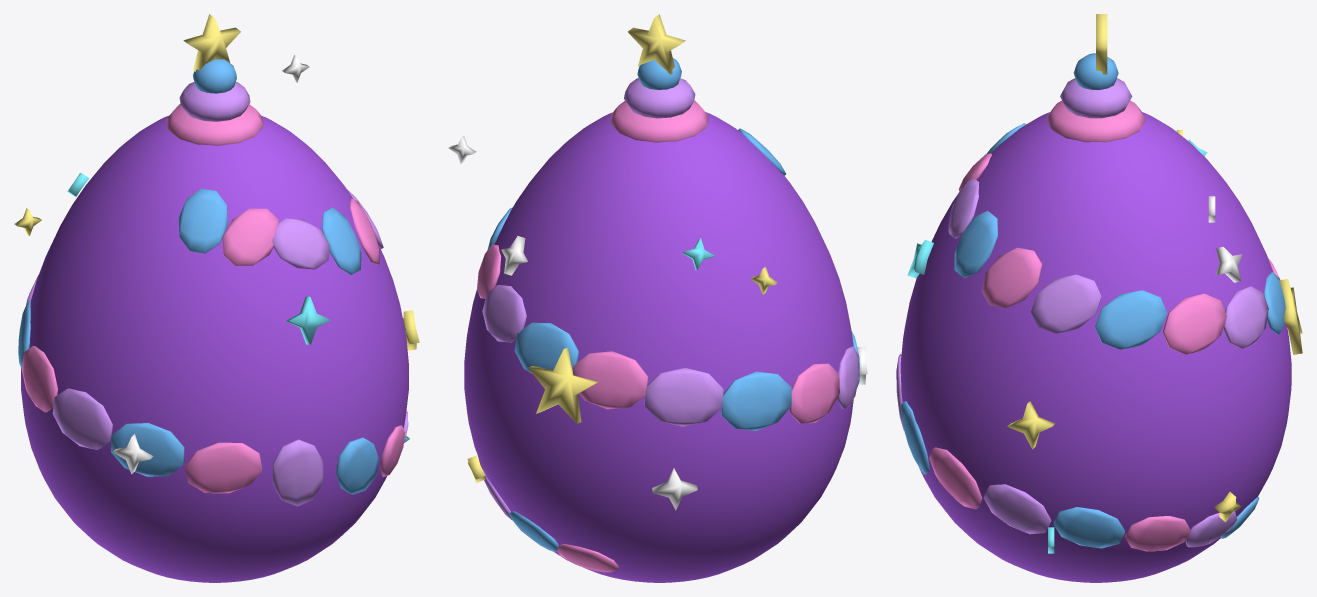
File: egg_nebula.fbx
The picture shows the model from 3 angles, left to right: view 1: azimuth 30°, elevation 25°; view 2: azimuth 150°, elevation 25°; view 3: azimuth 270°, elevation 25°; orthographic projection.
Parts seen in each view (by area): view 1: egg_nebula; view 2: egg_nebula; view 3: egg_nebula.
Boxes of the visible parts, x1,y1,x2,y2 form: egg_nebula: (14, 14, 419, 582); egg_nebula: (448, 14, 867, 582); egg_nebula: (896, 14, 1302, 582).
Size of the model in its own units: 4.99 by 7.55 by 5.05.
Materials: 1 (1 with a texture image).
